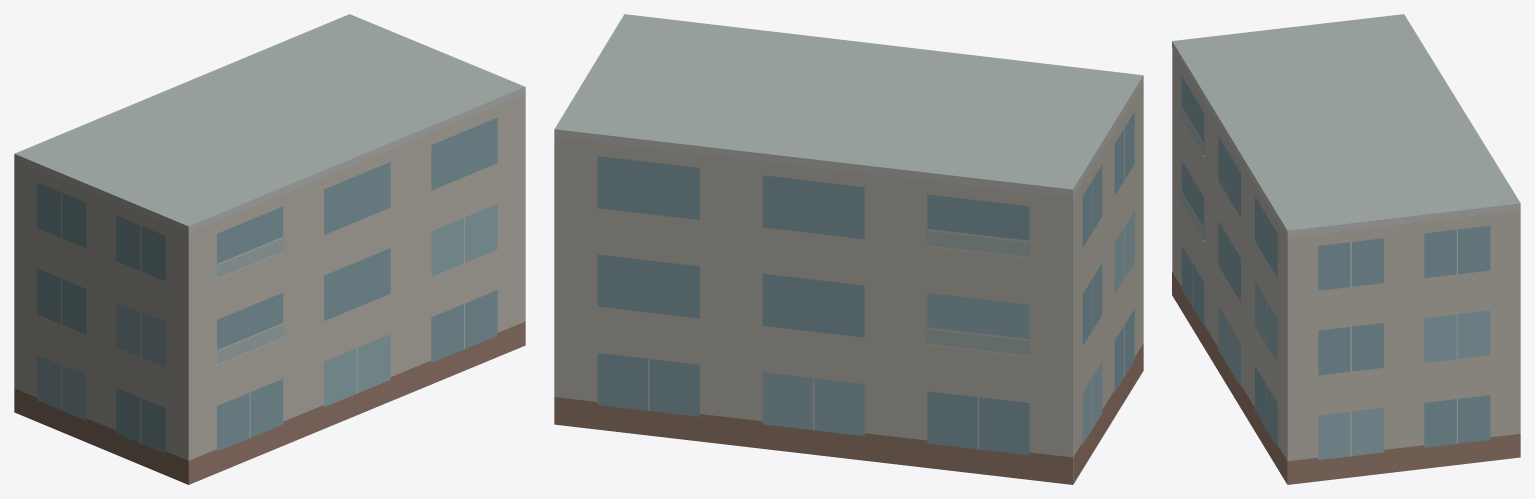
Rendered from survey-upis-32717046.glb.
3 renders of one model, left to right at view 1: azimuth 30°, elevation 25°; view 2: azimuth 150°, elevation 25°; view 3: azimuth 270°, elevation 25°, orthographic. The views are drawn at different scales.
Parts seen in each view (by area): view 1: survey-upis-32717046.tmp; view 2: survey-upis-32717046.tmp; view 3: survey-upis-32717046.tmp.
Part boxes in pixels (x1=…): survey-upis-32717046.tmp: x1=14, y1=14, x2=525, y2=484; survey-upis-32717046.tmp: x1=554, y1=14, x2=1143, y2=484; survey-upis-32717046.tmp: x1=1172, y1=14, x2=1520, y2=484.
Size of the model in its own units: 16.75 by 9.15 by 11.39.
